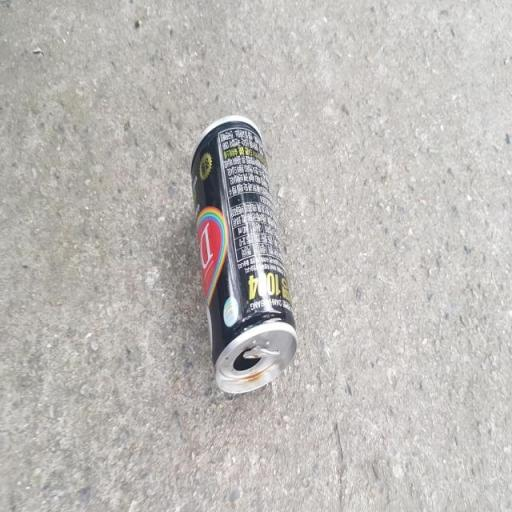metal: (173, 103, 318, 418)
